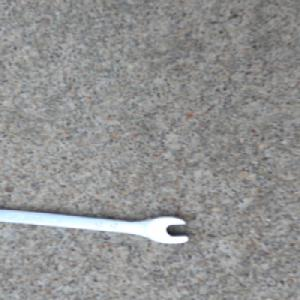Wrench: (0, 206, 192, 245)
